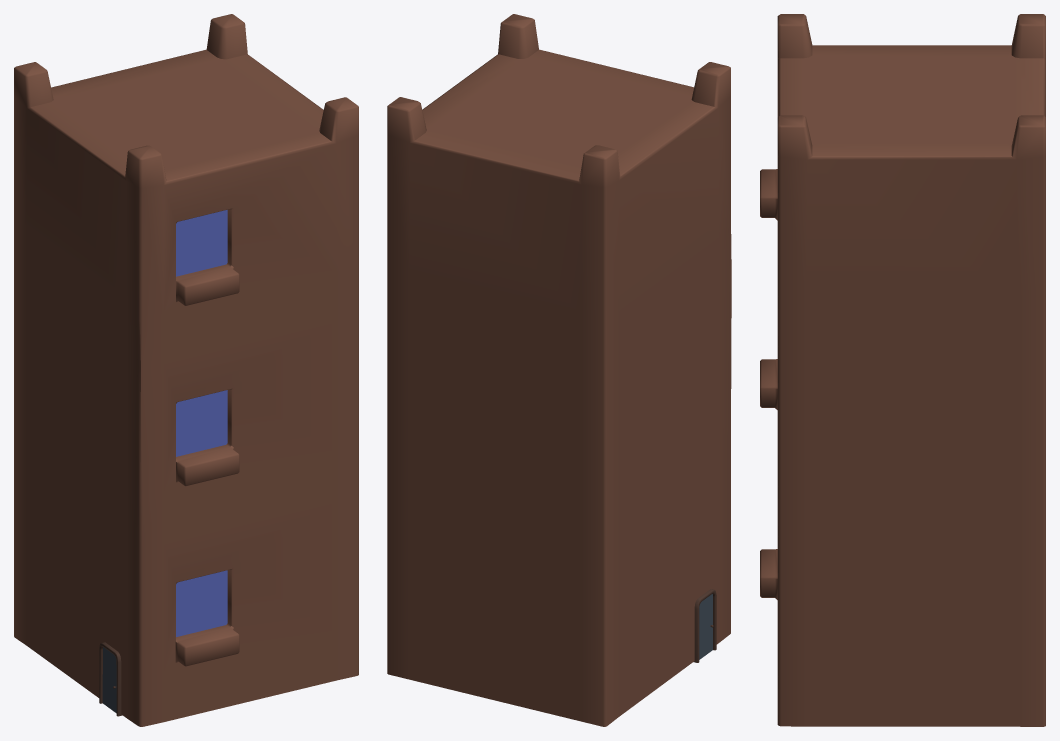
The model's file is BuildingCluster_b04.fbx.
3 renders of one model, left to right at view 1: azimuth 30°, elevation 25°; view 2: azimuth 150°, elevation 25°; view 3: azimuth 270°, elevation 25°, orthographic. The views are drawn at different scales.
Visible parts, largest first — view 1: basethird; view 2: basethird; view 3: basethird.
Part boxes in pixels (x1,y1,x2,y2): basethird: (14,14,358,726); basethird: (387,14,731,726); basethird: (760,14,1045,726).
Size of the model in its own units: 763 by 1858 by 801.
